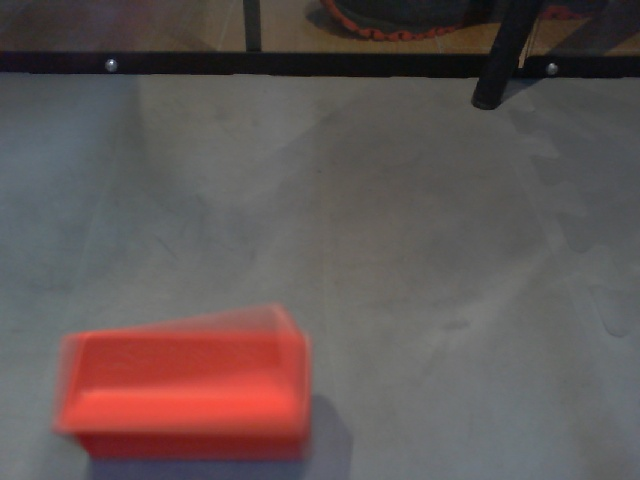RedSample: (52, 312, 314, 462)
